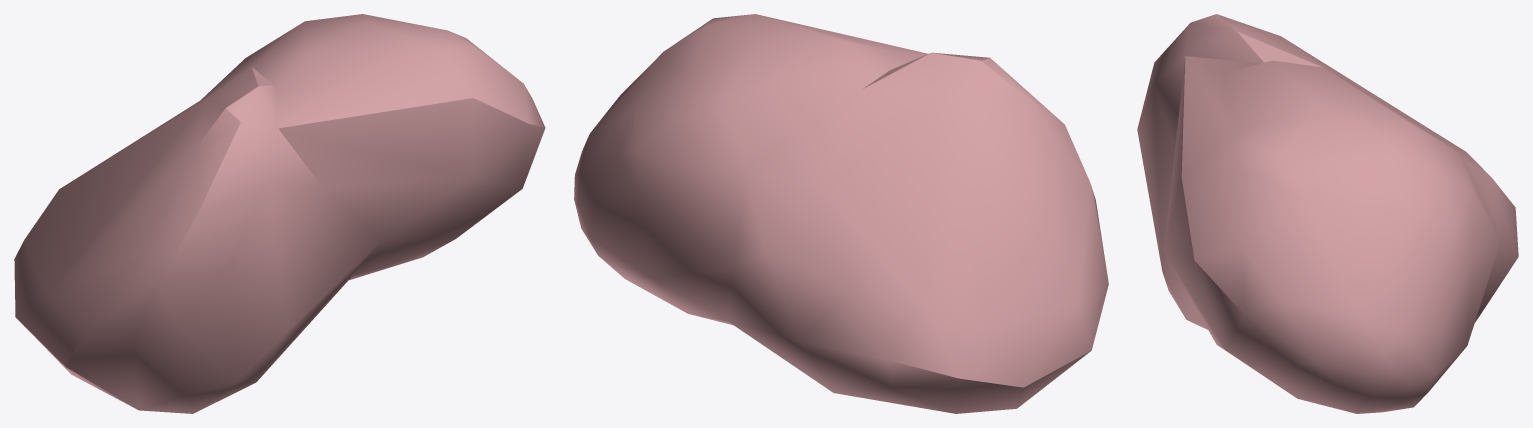
Rendered from fma14965_fj2581.glb.
3 renders of one model, left to right at view 1: azimuth 30°, elevation 25°; view 2: azimuth 150°, elevation 25°; view 3: azimuth 270°, elevation 25°, orthographic. The views are drawn at different scales.
Visible parts, largest first — view 1: FMA14965_FJ2581; view 2: FMA14965_FJ2581; view 3: FMA14965_FJ2581.
Boxes of the visible parts, x1,y1,x2,y2 form: FMA14965_FJ2581: (14, 14, 545, 413); FMA14965_FJ2581: (574, 14, 1108, 413); FMA14965_FJ2581: (1137, 14, 1518, 413).
Size of the model in its own units: 0.0402 by 0.0251 by 0.0248.
